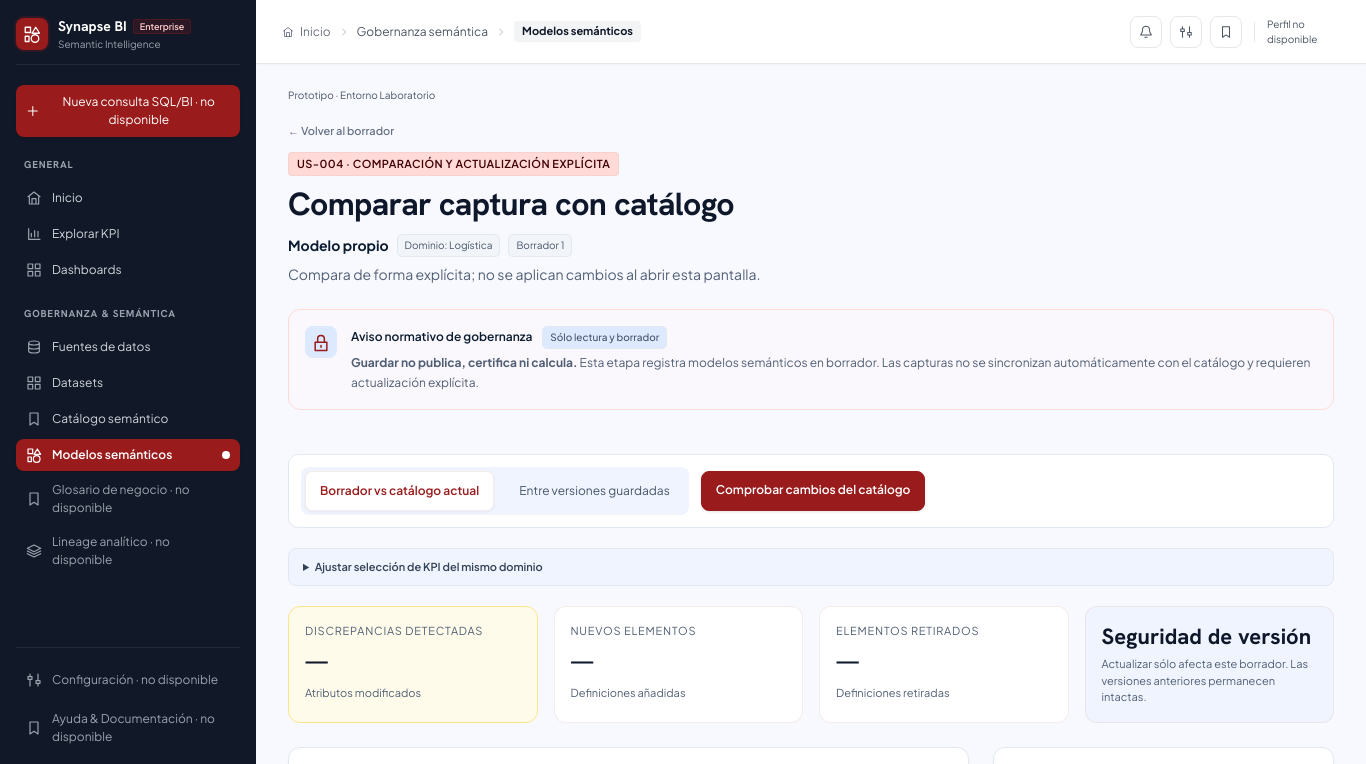
Test case: renders the confirmed PUT response without requiring a subsequent GET
Expected: the heading "Comparar captura con catálogo" is shown, [288,182,734,224]
Click the button "Comprobar cambios del catálogo". click: (813, 490)
box: [701,470,925,510]
(page scrolled)
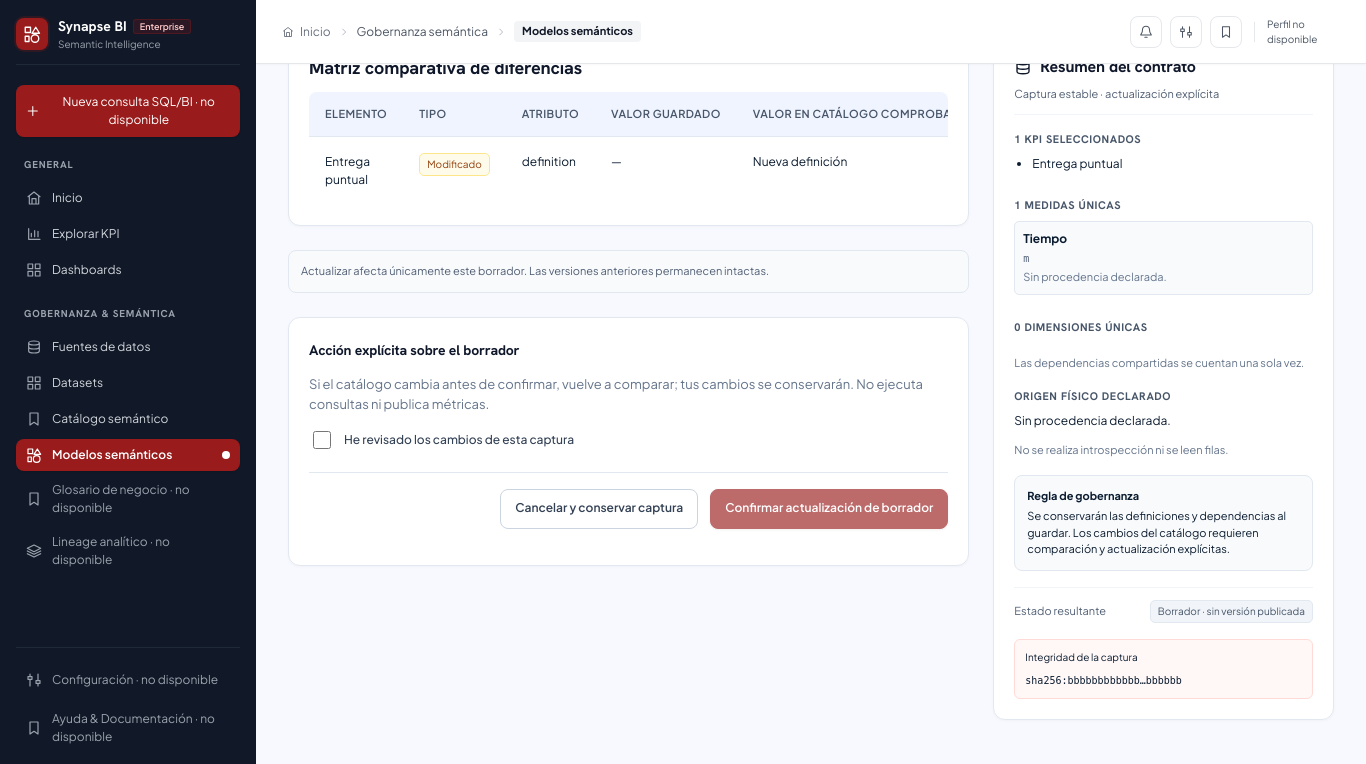
Click the checkbox labelled "He revisado los cambios de esta captura". click: (322, 440)
box: [313,430,331,448]
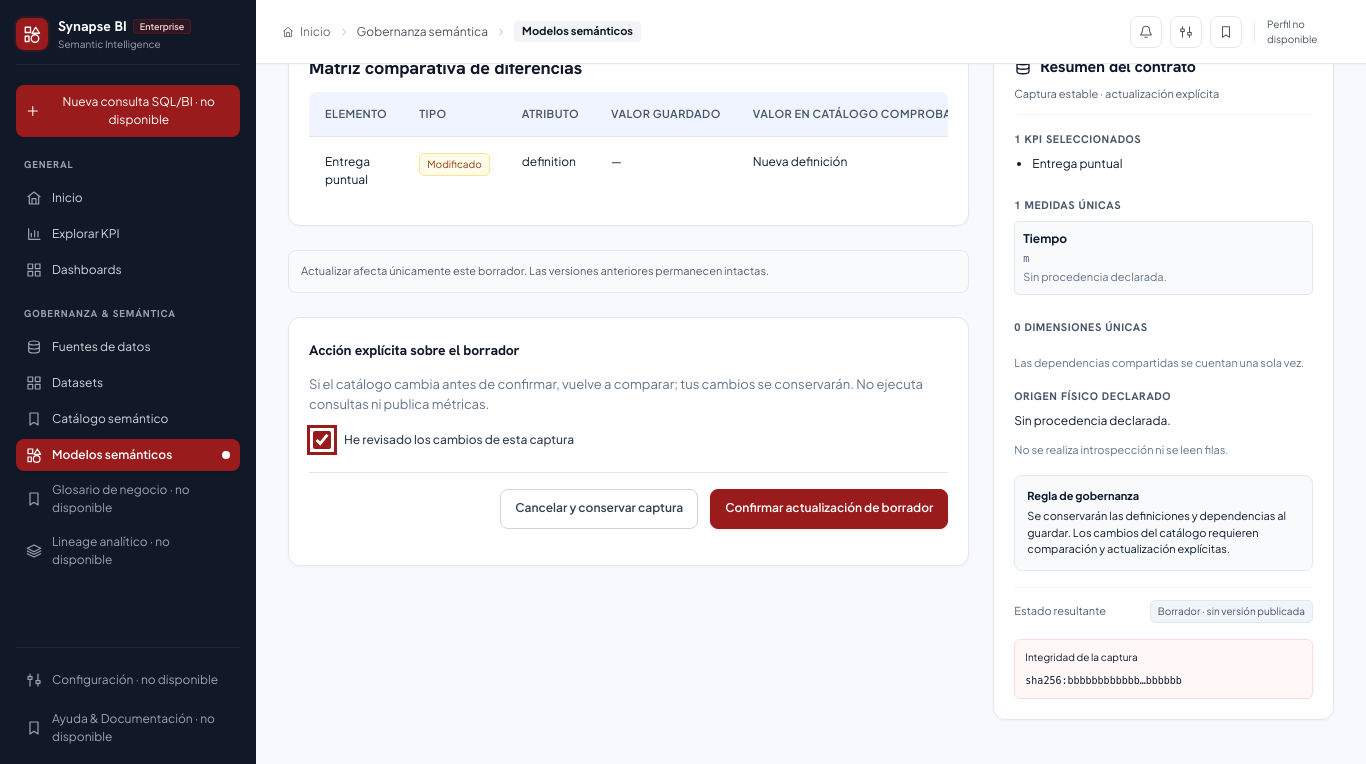
Click the button "Confirmar actualización de borrador". click: (829, 508)
box: [710,488,948,528]
(page scrolled)
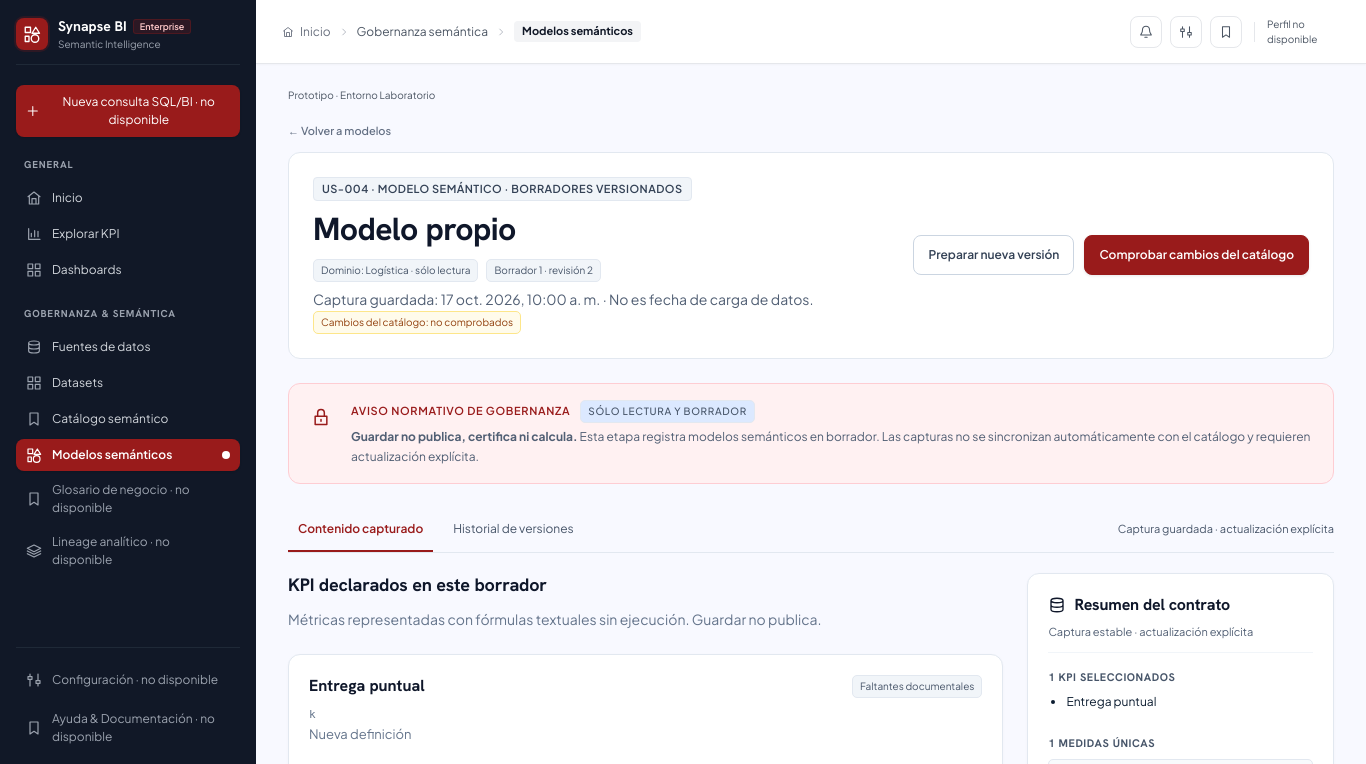
Result: the text "Nueva definición" is shown at [309,726,411,742]
Result: the heading "Modelo propio" is shown at [313,208,516,250]
